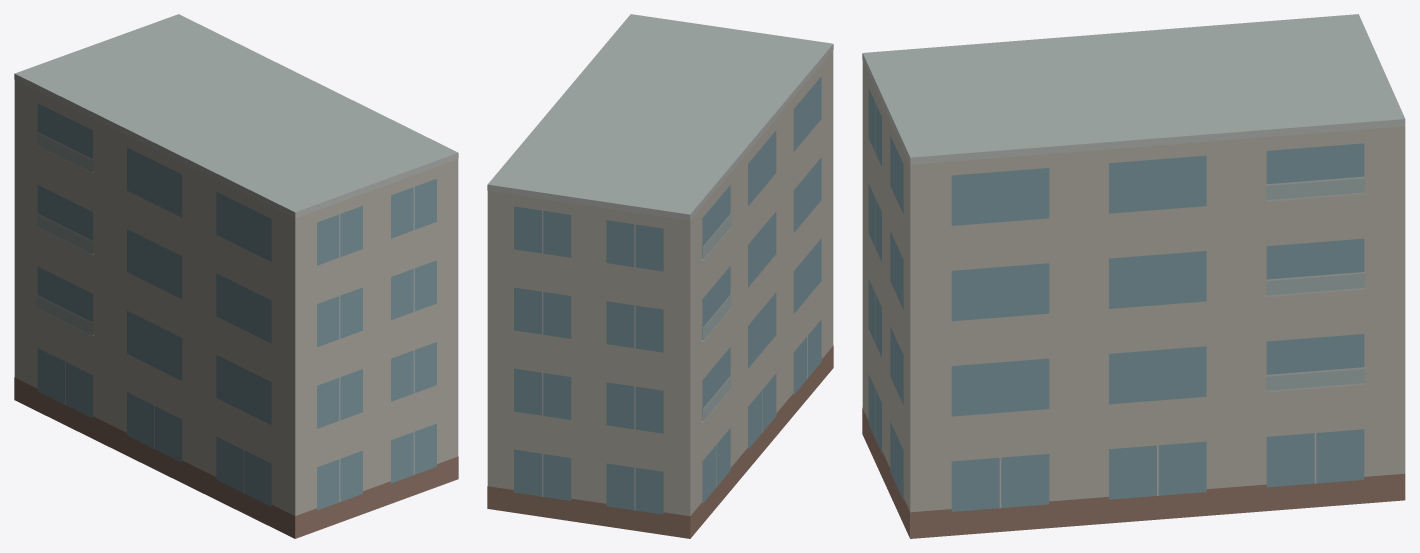
File: survey-upis-32881872.glb
The picture shows the model from 3 angles, left to right: view 1: azimuth 30°, elevation 25°; view 2: azimuth 150°, elevation 25°; view 3: azimuth 270°, elevation 25°; orthographic projection. The views are drawn at different scales.
Parts seen in each view (by area): view 1: survey-upis-32881872.tmp; view 2: survey-upis-32881872.tmp; view 3: survey-upis-32881872.tmp.
Part boxes in pixels (x1,y1,x2,y2): survey-upis-32881872.tmp: (14,14,458,538); survey-upis-32881872.tmp: (487,14,833,538); survey-upis-32881872.tmp: (862,14,1405,538).
Bounding box in the file's own units: 10.43 × 12.9 × 16.66.
